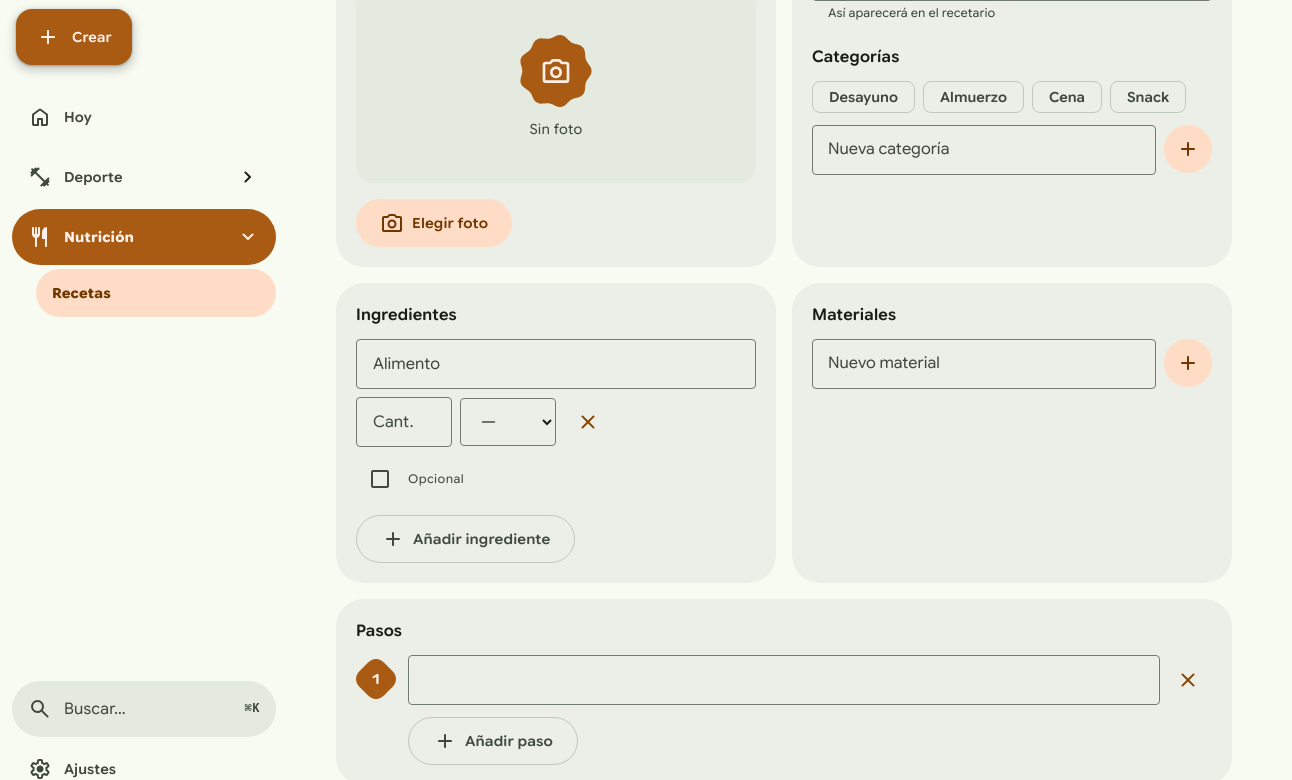
Test: nueva-receta: filas › pasos: añadir/eliminar numerados
This screenshot has width=1292, height=780.
(page scrolled)
Step 1. Type "Batir" into the field named "Paso 1" → [784, 680], box [408,655,1160,705]
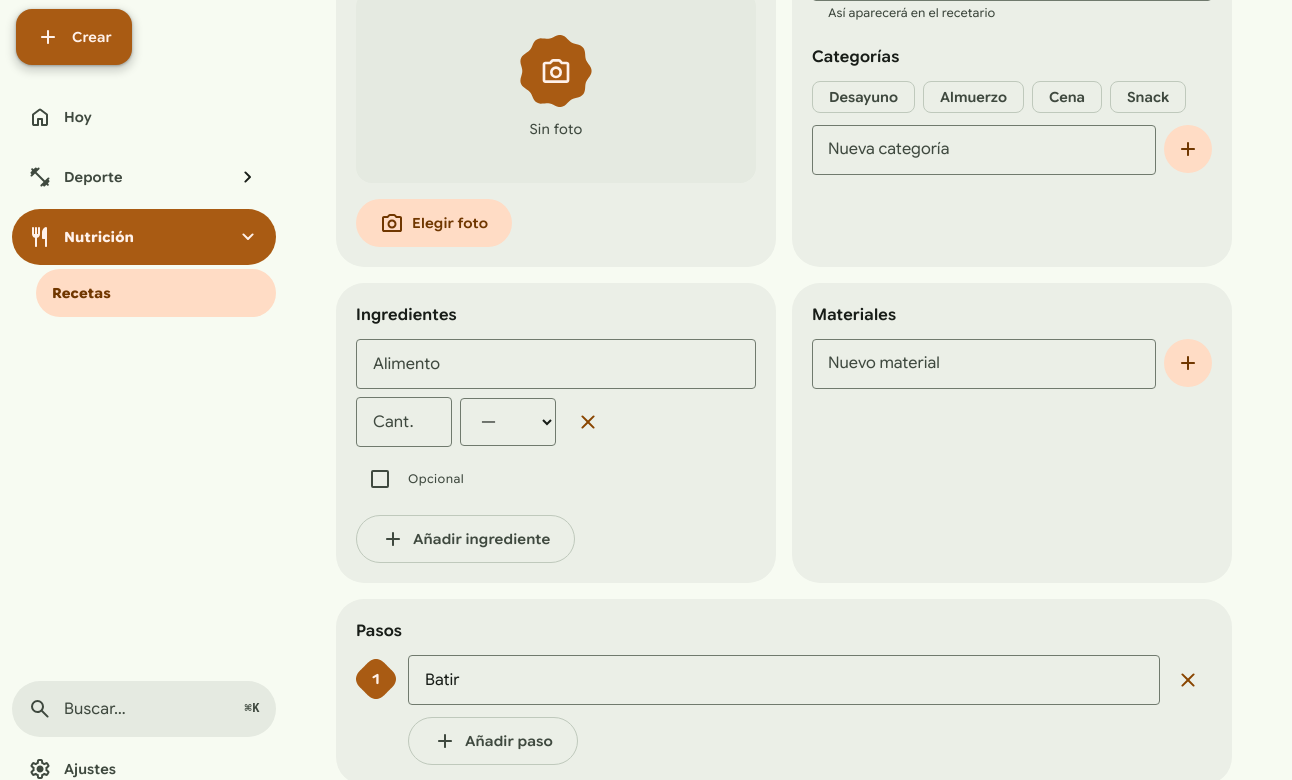
Step 2. Click the button "Añadir paso" → [493, 741], box [408,717,578,765]
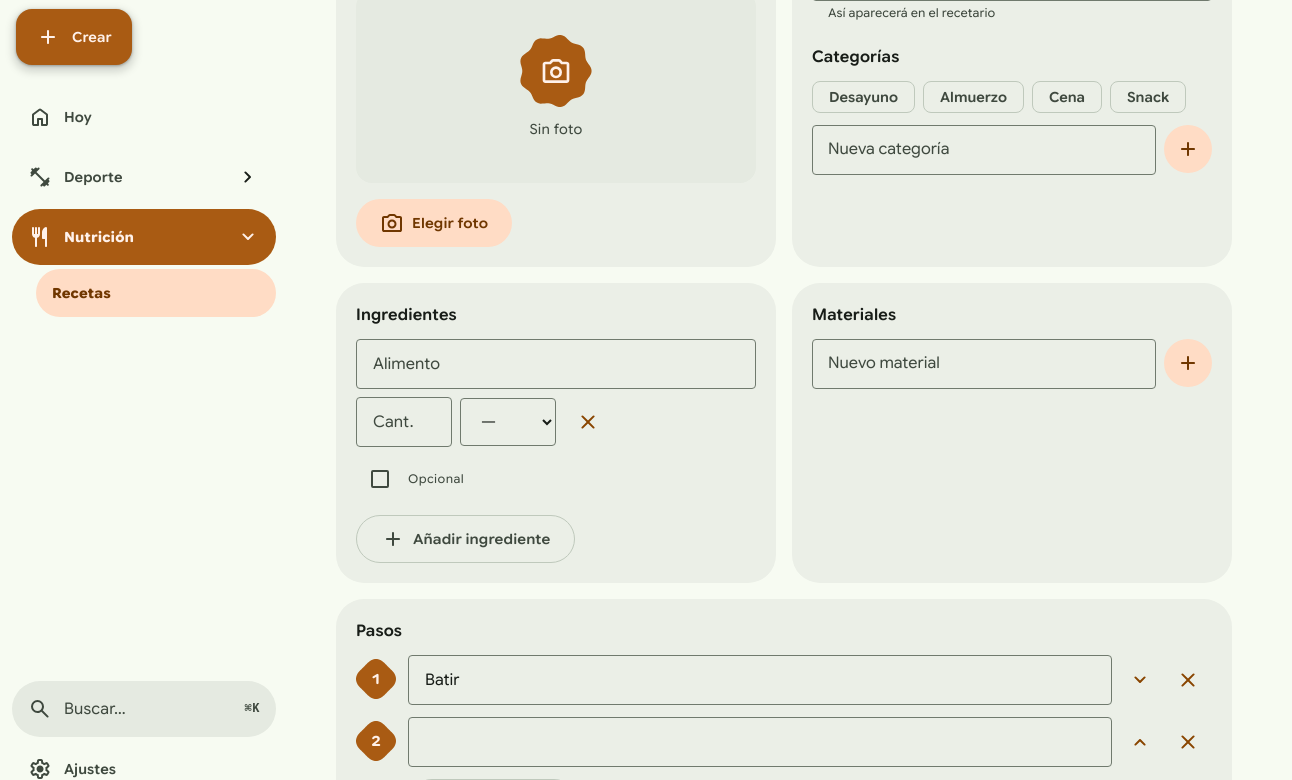
Expected: the number of fields named "Paso 1" is 2, [408,655,1112,705]; [408,717,1112,767]
Step 3. Click the button named "Quitar paso 2" → [1188, 742], box [1164,718,1212,766]
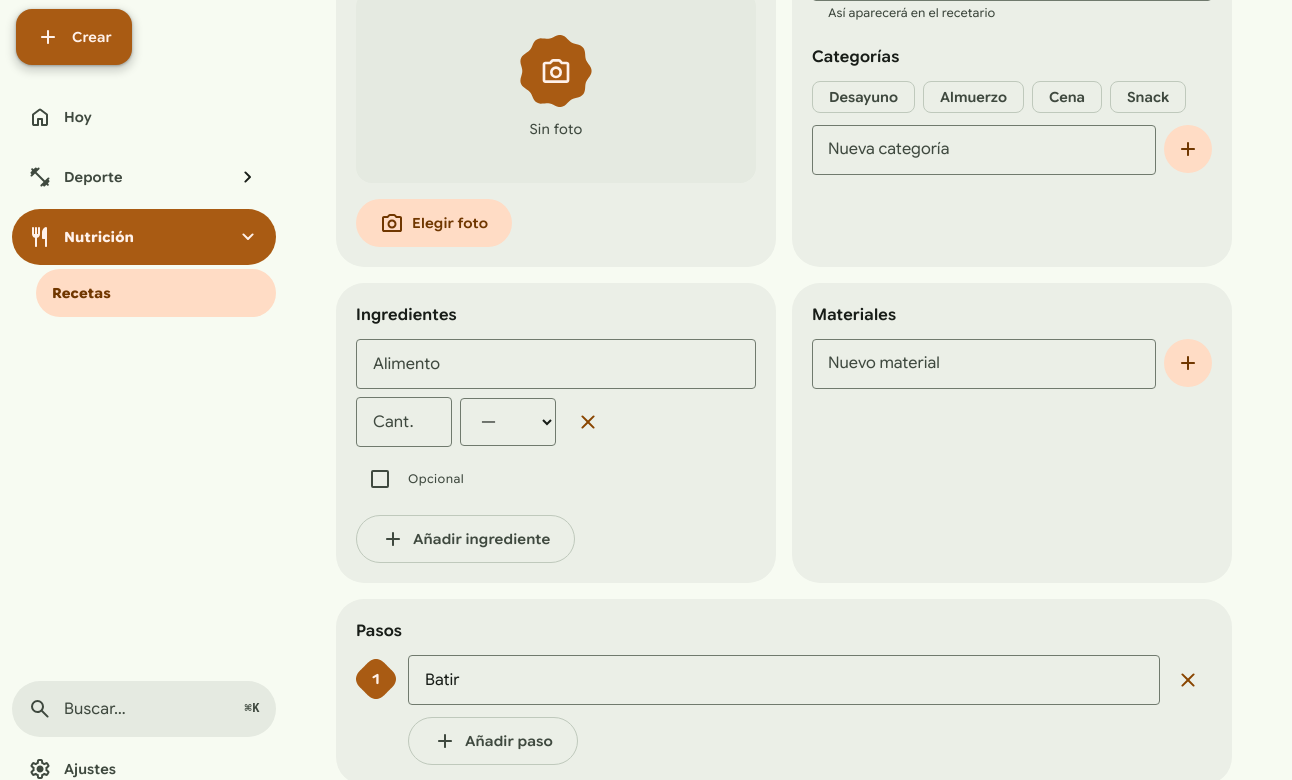
Expected: the number of fields named "Paso 1" is 1, [408,655,1160,705]
